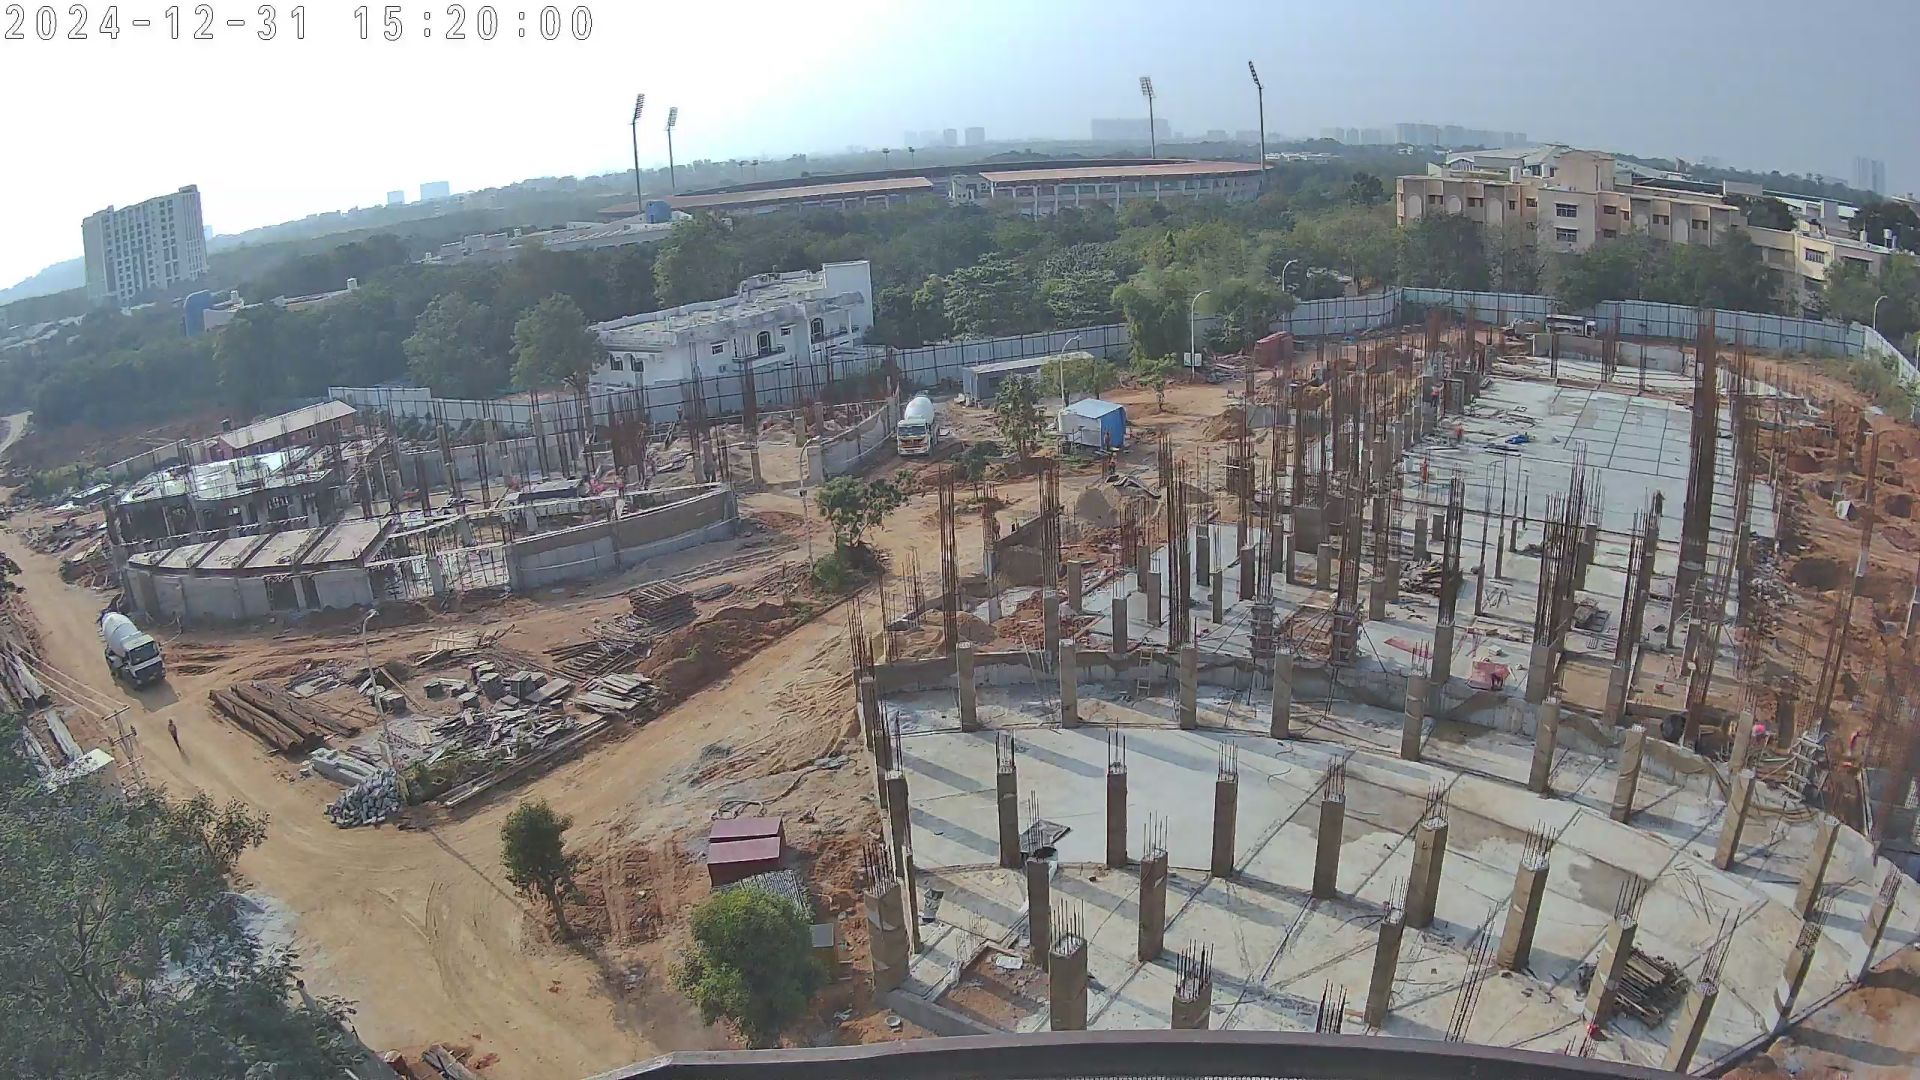truck: (90, 609, 174, 689), (1497, 309, 1599, 351), (894, 389, 942, 461)
worker: (165, 715, 185, 753), (1847, 725, 1864, 764), (1747, 719, 1774, 741), (989, 513, 1006, 540), (1419, 454, 1432, 486), (1655, 486, 1666, 518), (1429, 380, 1442, 407), (1107, 449, 1119, 476), (1454, 421, 1465, 448), (615, 477, 627, 501), (1102, 428, 1112, 450), (675, 403, 685, 424), (1310, 362, 1318, 382)
